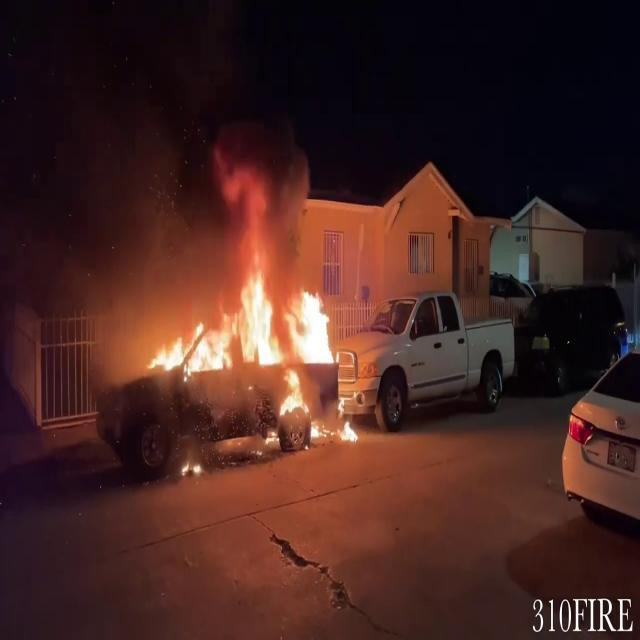Fire: (142, 251, 354, 434)
Smoke: (1, 1, 316, 330)
